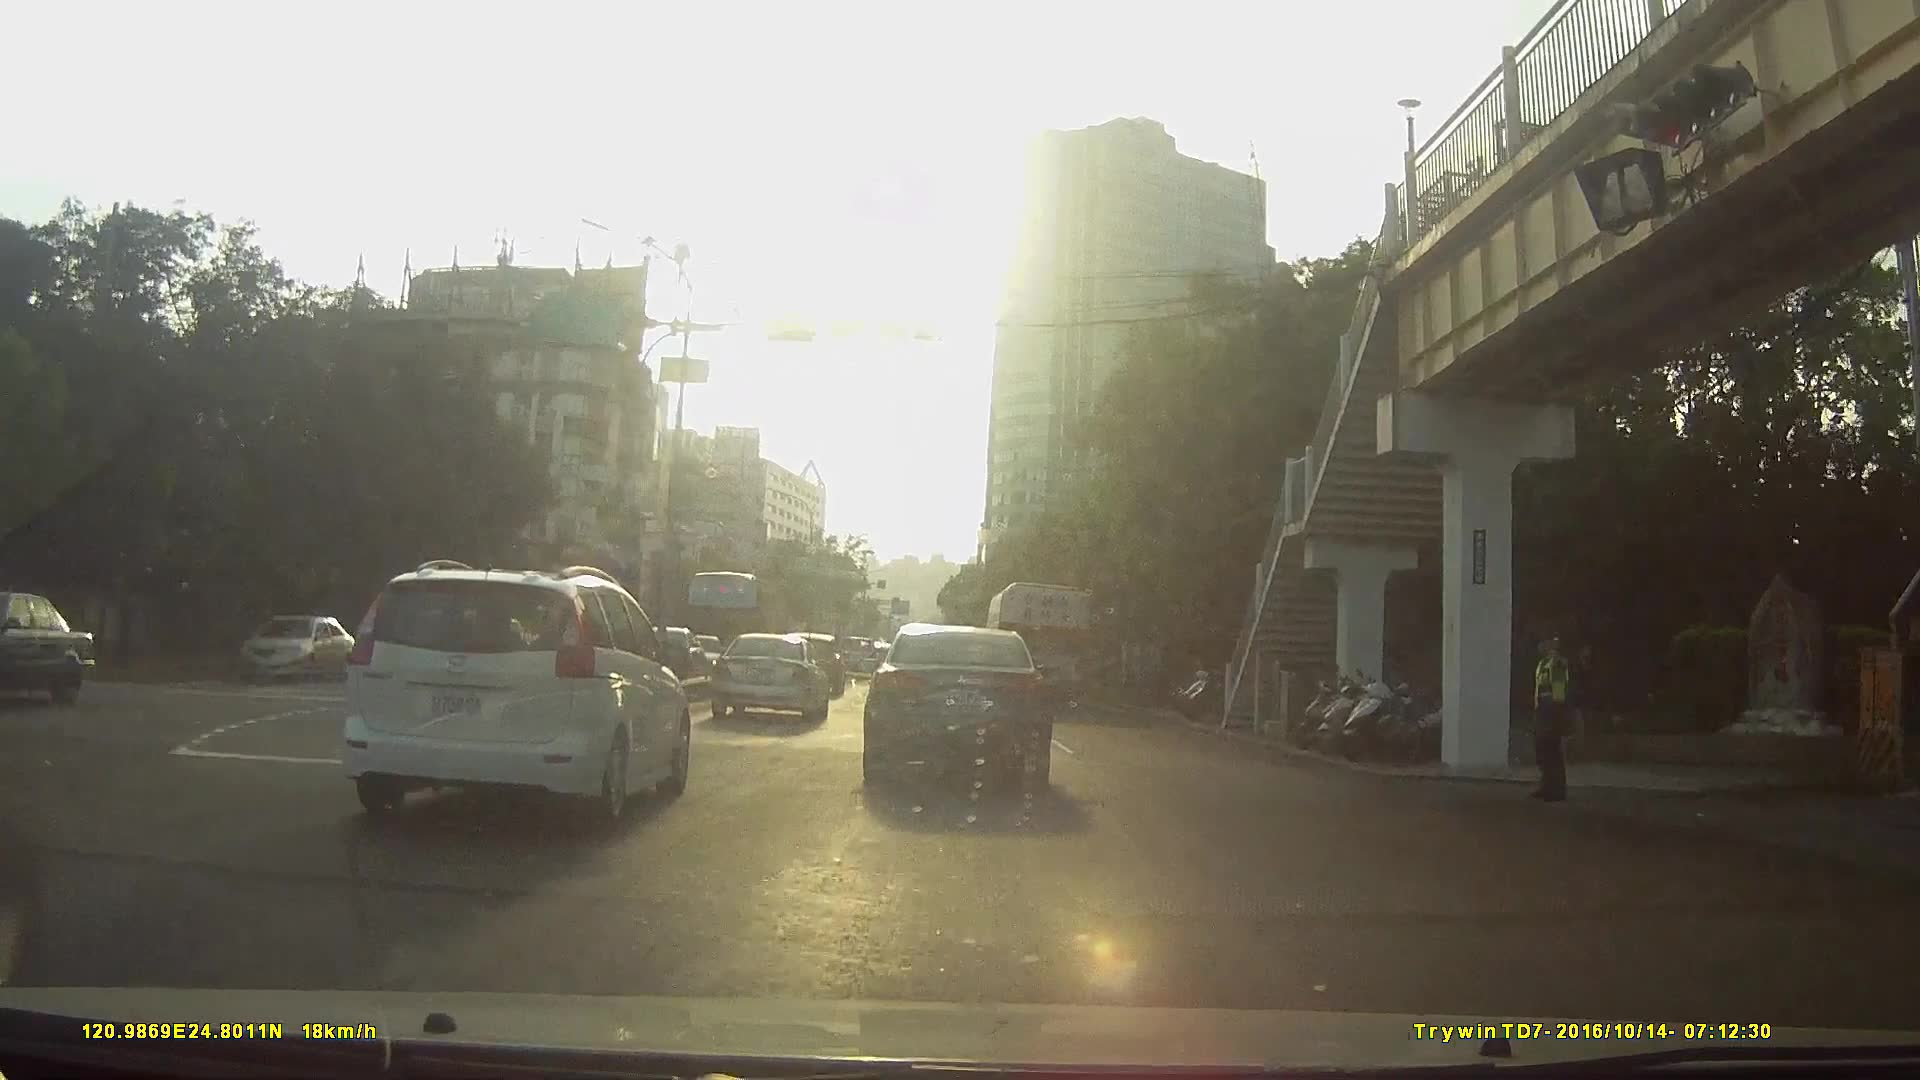pedestrian: (1523, 622, 1587, 798)
vehicle: (250, 556, 684, 868), (344, 553, 692, 822), (857, 614, 1049, 786), (981, 575, 1092, 707), (231, 603, 368, 691), (708, 625, 829, 720), (1, 596, 107, 703), (678, 563, 782, 666), (832, 629, 881, 677)
